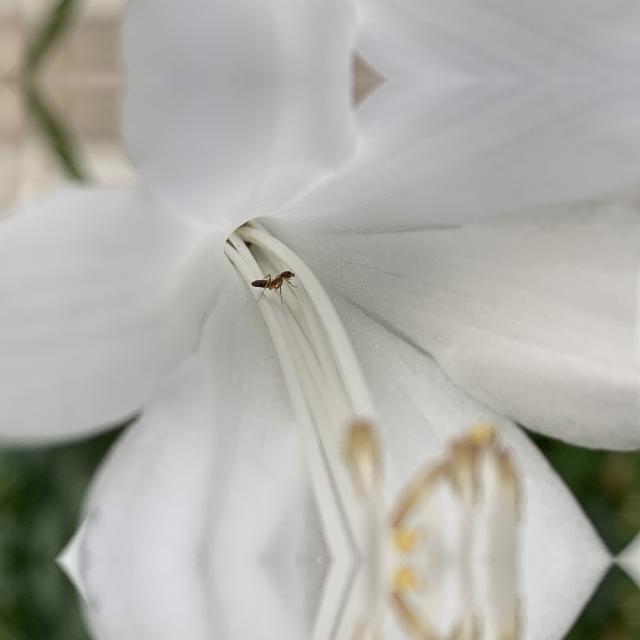Tapinoma: (238, 260, 308, 302)
